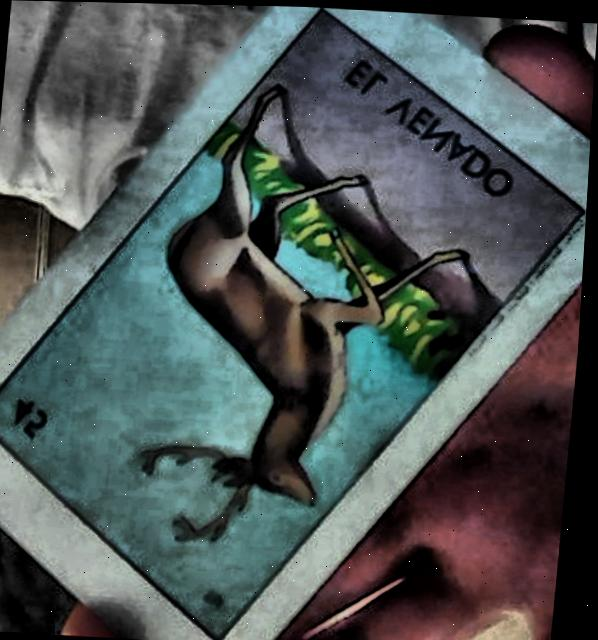El Venado: (0, 8, 586, 640)
